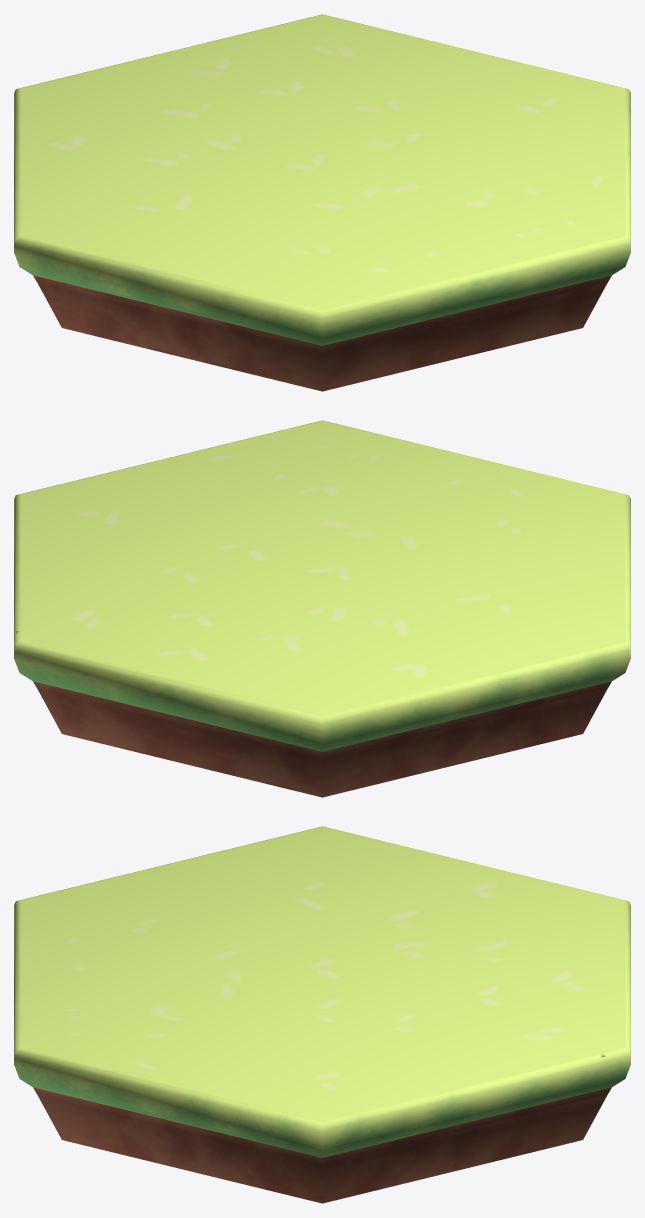
File: SUELO HEXAGONO (1).fbx
3 renders of one model, top to bottom at view 1: azimuth 30°, elevation 25°; view 2: azimuth 150°, elevation 25°; view 3: azimuth 270°, elevation 25°, orthographic.
Parts seen in each view (by area): view 1: Cylinder.014; view 2: Cylinder.014; view 3: Cylinder.014.
Part boxes in pixels (bbox=[...]): Cylinder.014: bbox=[14, 14, 630, 391]; Cylinder.014: bbox=[14, 420, 630, 797]; Cylinder.014: bbox=[14, 826, 630, 1203].
Bounding box in the file's own units: 200 × 31.67 × 173.
Materials: 1 (1 with a texture image).
